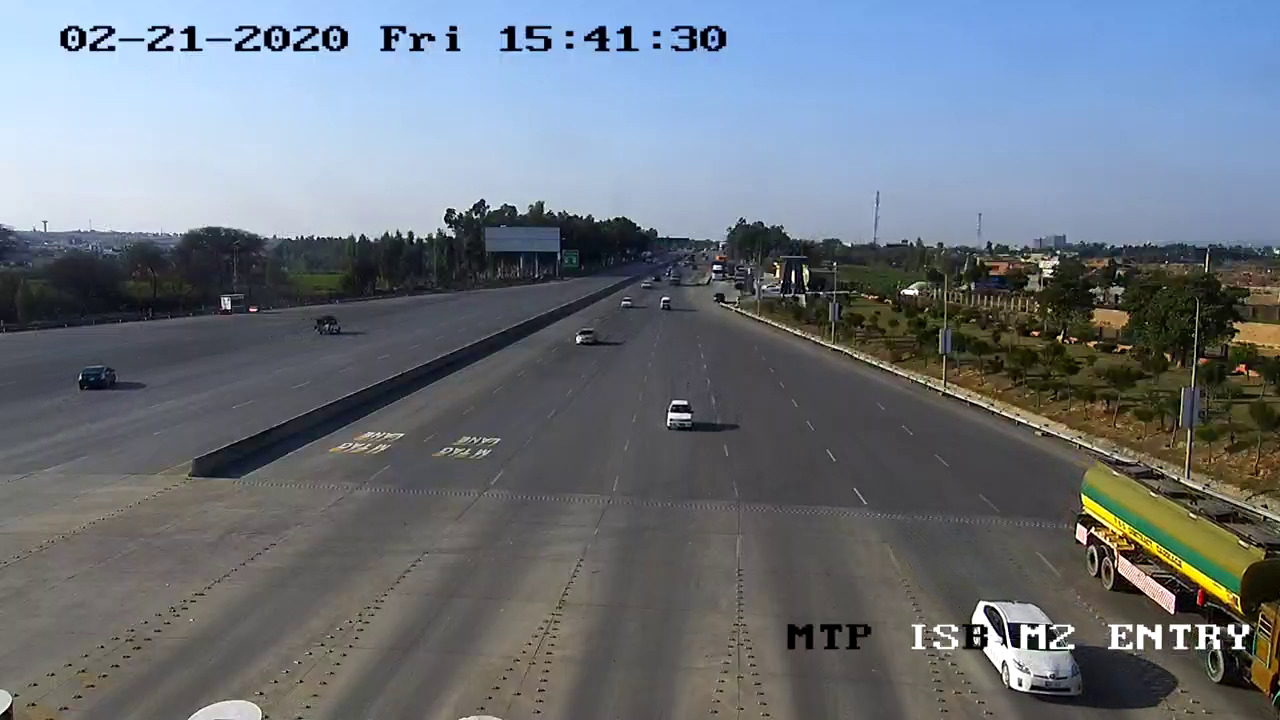f1: (658, 389, 699, 437)
